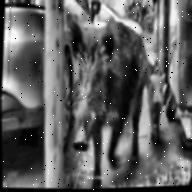boar: (58, 26, 155, 186)
